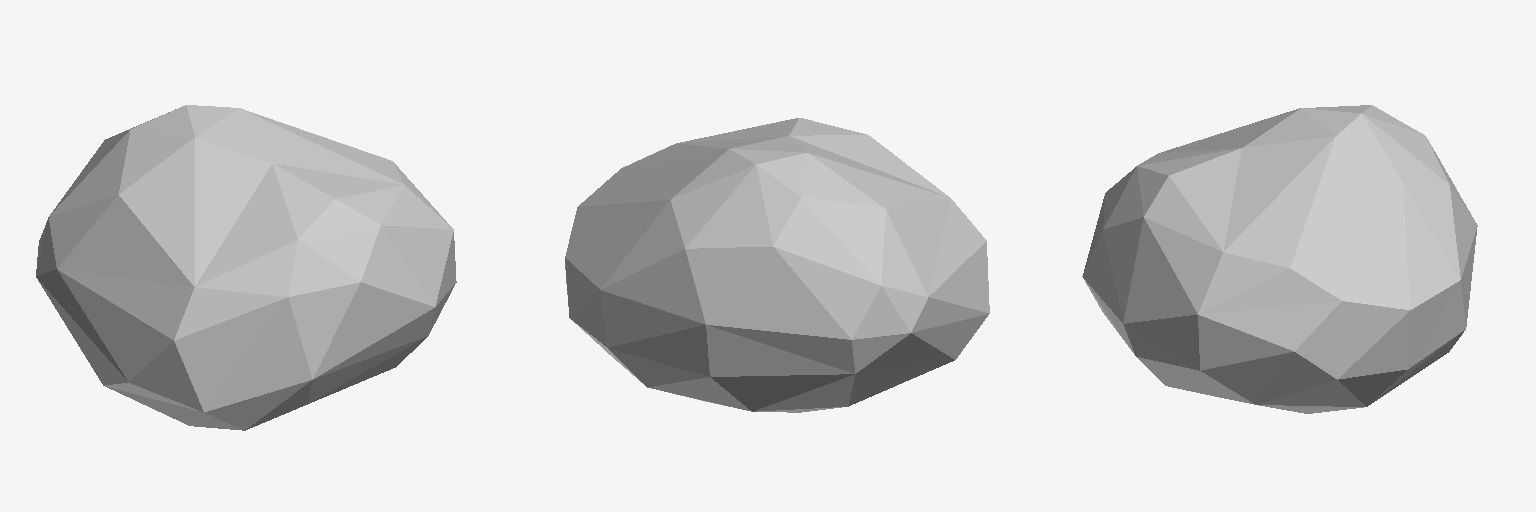
File: stone2.obj
The picture shows the model from 3 angles: view 1: azimuth 30°, elevation 25°; view 2: azimuth 150°, elevation 25°; view 3: azimuth 270°, elevation 25°; orthographic projection.
Parts seen in each view (by area): view 1: stone2; view 2: stone2; view 3: stone2.
Part boxes in pixels (x1,y1,x2,y2): stone2: (36, 105, 456, 430); stone2: (565, 118, 989, 412); stone2: (1082, 105, 1477, 413).
Size of the model in its own units: 3.88 by 2.62 by 3.65.